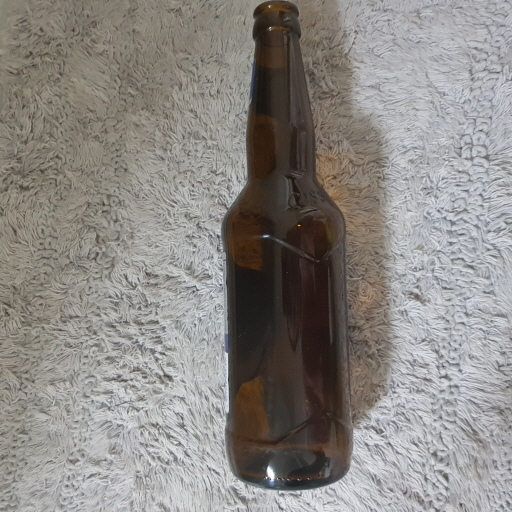Glass_1: (217, 5, 353, 495)
